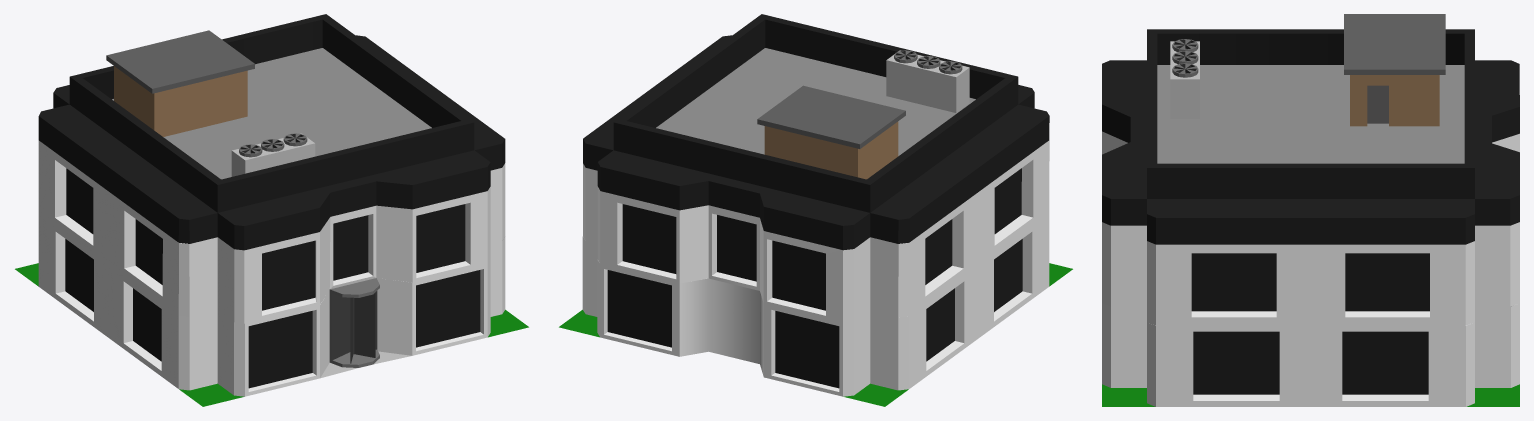
File: Envi_Building_Modern_001.fbx
3 renders of one model, left to right at view 1: azimuth 30°, elevation 25°; view 2: azimuth 150°, elevation 25°; view 3: azimuth 270°, elevation 25°, orthographic. The views are drawn at different scales.
Visible parts, largest first — view 1: Roof, Base, Mid_Floor, Roof_Access, Vent_Unit; view 2: Roof, Base, Mid_Floor, Roof_Access, Vent_Unit; view 3: Roof, Base, Mid_Floor, Roof_Access, Vent_Unit.
Boxes of the visible parts, x1,y1,x2,y2 form: Roof: (38,14,505,250); Base: (15,214,528,406); Mid_Floor: (38,140,505,323); Roof_Access: (106,30,254,136); Vent_Unit: (231,133,315,176); Roof: (583,14,1049,250); Base: (559,214,1072,406); Mid_Floor: (583,140,1049,323); Roof_Access: (757,85,905,179); Vent_Unit: (886,50,969,112); Roof: (1102,29,1519,244); Base: (1102,303,1519,406); Mid_Floor: (1102,131,1519,325); Roof_Access: (1344,14,1445,126); Vent_Unit: (1170,41,1199,118).
Bounding box in the file's own units: 1400 × 917 × 1400.
